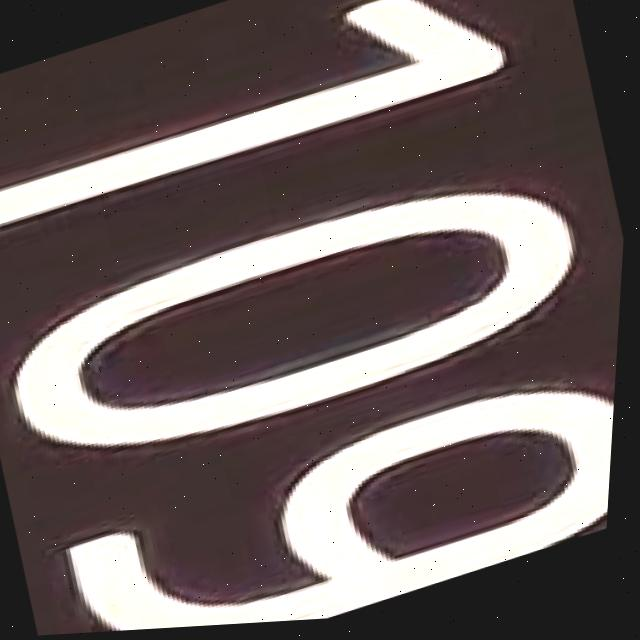character: (0, 133, 610, 509), (36, 341, 618, 636), (0, 0, 519, 256)
